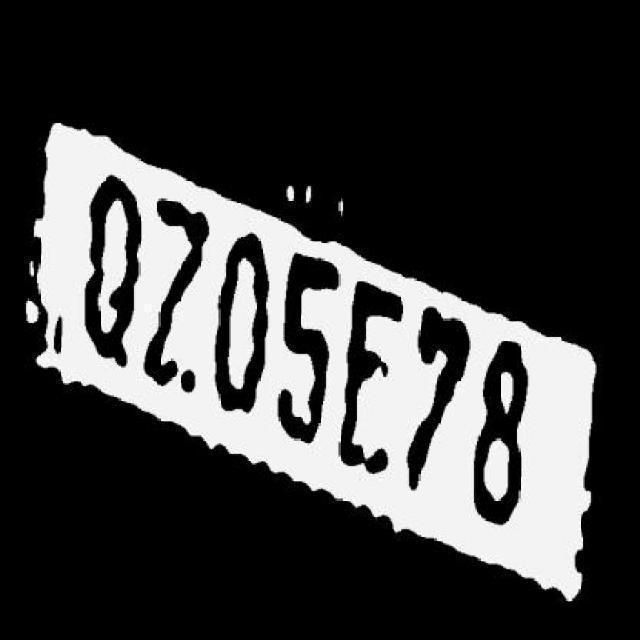5: (274, 258, 346, 450)
7: (402, 308, 476, 502)
8: (477, 330, 540, 564)
o: (213, 218, 270, 418)
q: (86, 177, 140, 366)
z: (140, 192, 202, 396)
